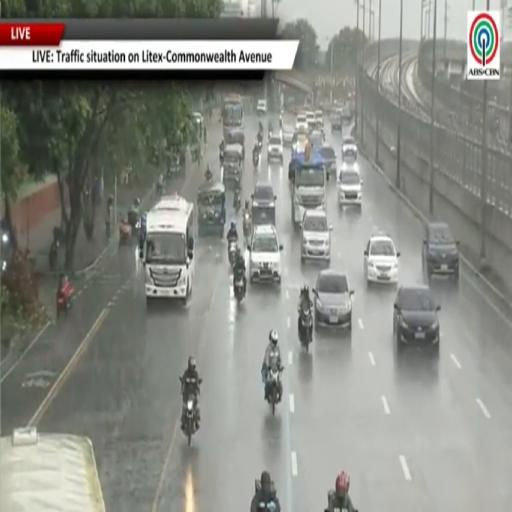bus: (0, 427, 105, 511), (140, 195, 195, 301), (291, 150, 327, 227), (222, 93, 244, 138)
car: (393, 285, 440, 353), (313, 269, 353, 329), (423, 222, 459, 278), (248, 224, 282, 283), (364, 233, 400, 283), (301, 210, 332, 262), (251, 182, 276, 226), (337, 170, 362, 207), (252, 182, 276, 204), (320, 143, 336, 175), (268, 134, 282, 163), (342, 136, 357, 159), (292, 133, 308, 152), (309, 130, 324, 149), (331, 109, 342, 133), (282, 125, 294, 147), (339, 162, 360, 174), (295, 113, 308, 132), (340, 105, 352, 123), (193, 112, 203, 131), (306, 111, 315, 130), (256, 100, 267, 115), (315, 110, 323, 127)
jeepney: (198, 182, 225, 236), (221, 144, 242, 187), (225, 128, 245, 159)
motorcycle: (268, 367, 283, 414), (182, 395, 196, 445), (57, 282, 73, 317), (299, 308, 312, 351), (234, 271, 245, 303), (48, 239, 59, 271), (228, 240, 237, 267), (243, 212, 251, 239), (233, 189, 241, 213), (258, 501, 276, 511), (253, 152, 259, 169), (106, 221, 111, 241), (219, 150, 224, 165), (324, 508, 345, 511), (258, 139, 262, 152)
tricycle: (57, 277, 74, 317), (119, 219, 132, 246)
